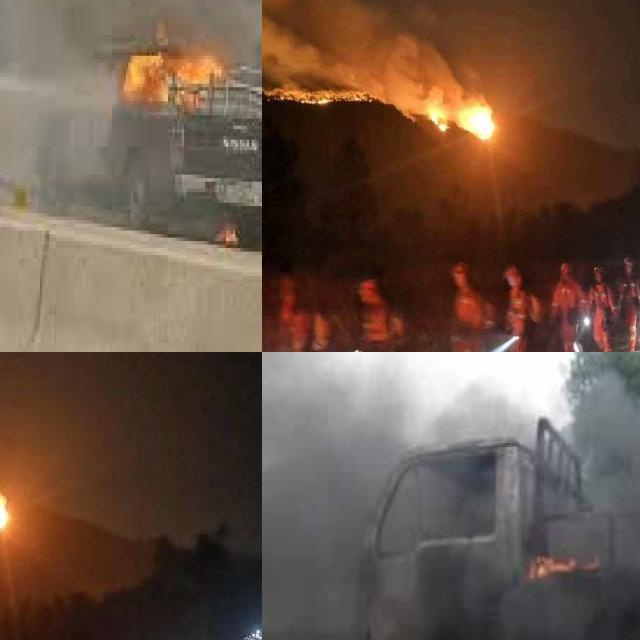fire: (105, 21, 231, 129), (519, 538, 598, 593), (424, 92, 497, 140)
smoke: (262, 352, 640, 640), (262, 0, 462, 124)
